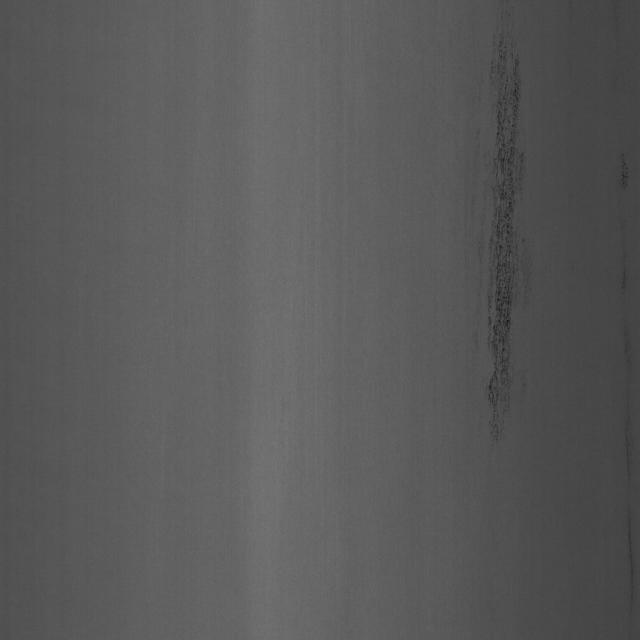oil_spot: (469, 30, 544, 440)
